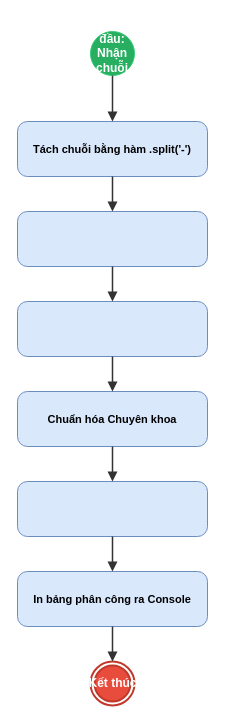
Some shapes in this 225 by 723 pixel diagram are drawn without their labels. The shapes that lost their labels are listed below. From the top down, each one's centre as x and y in pixels, then its label:
the point at 112,238: Trích xuất 4 trường dữ liệu
the point at 112,328: Chuẩn hóa tên Bác sĩ
the point at 112,508: Chuẩn hóa Phòng khám
